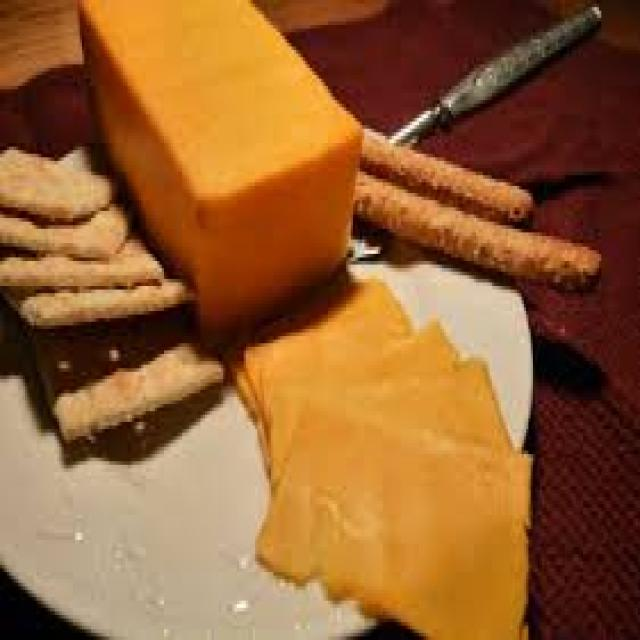slicecheese: (253, 400, 528, 640)
